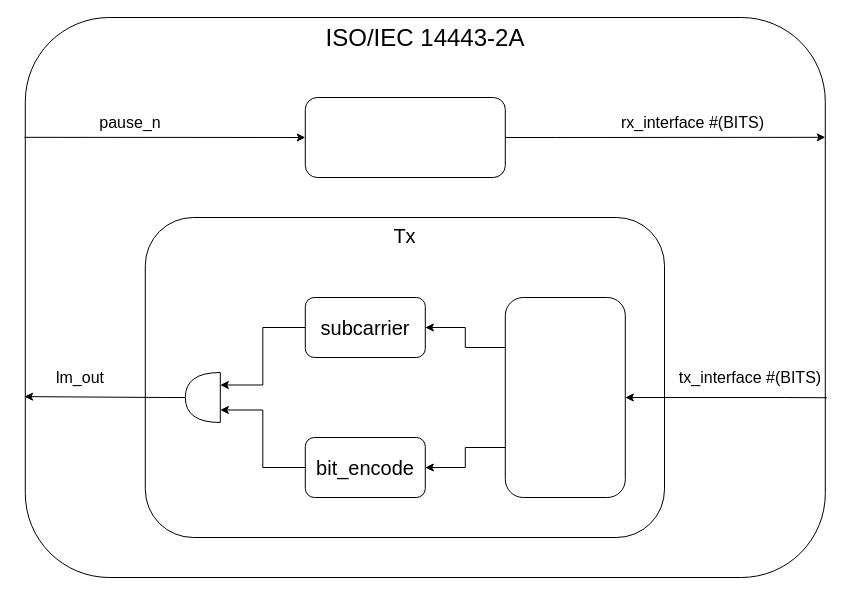
Some shapes in this 853 by 595 pixel diagram are drawn without their labels. Here are the shapes that lost their labels. From the top down, the centre of each, then its label:
At point 404,137: "sequence_decode".
At point 564,397: "Máquina de estados para recibir tramas y aggregar el SOC".
